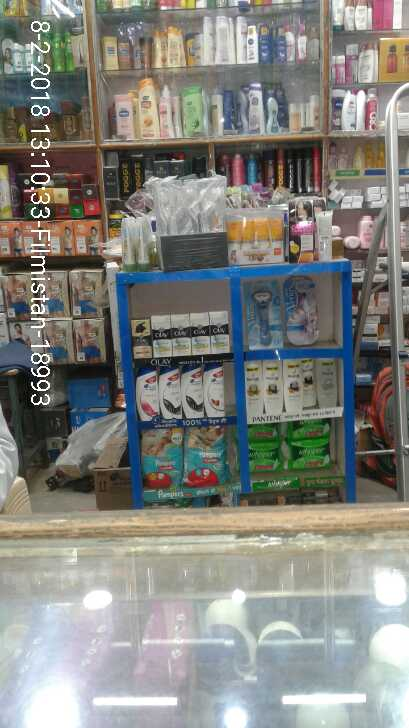venus: (244, 283, 283, 346), (283, 276, 316, 346)
